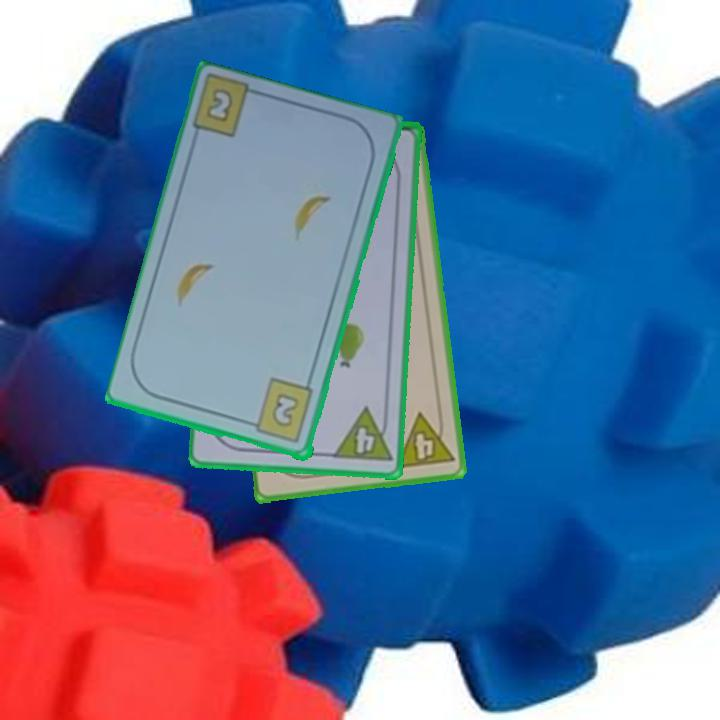2b: (243, 375, 317, 446), (202, 85, 236, 126)
4p: (392, 407, 457, 472), (330, 404, 395, 465)
